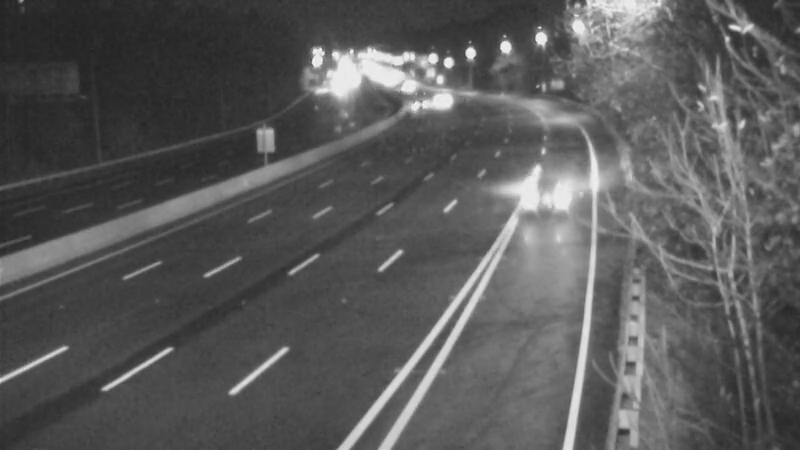vehicle: (497, 162, 577, 242), (417, 68, 467, 118), (392, 78, 442, 128)
